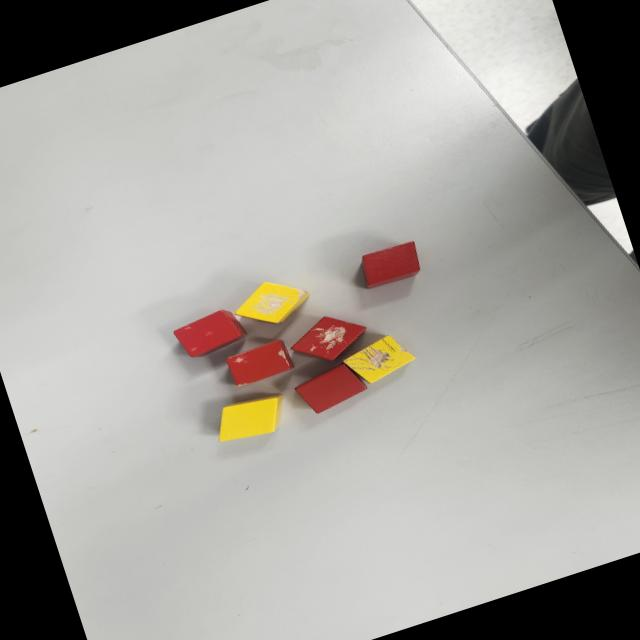broken: (284, 304, 373, 373), (230, 270, 314, 336), (338, 328, 421, 389), (171, 304, 251, 363), (224, 336, 296, 389)
red: (291, 358, 371, 418), (356, 238, 426, 292)
yellow: (208, 388, 292, 450)
